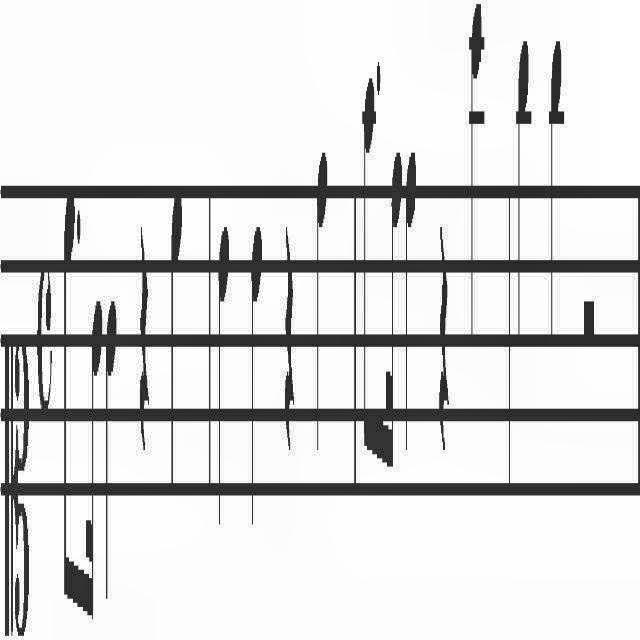Eighth-note: (360, 70, 376, 482), (64, 178, 76, 614)
Quarter-note: (467, 1, 483, 363), (515, 29, 529, 354), (104, 288, 118, 608), (169, 188, 183, 497), (550, 22, 562, 354), (316, 144, 328, 460), (404, 146, 416, 462), (250, 220, 262, 534), (218, 223, 230, 529)
Quarter-rest: (138, 212, 150, 448), (284, 220, 296, 454), (438, 220, 449, 448)
Sixteenth-note: (86, 289, 102, 617), (386, 146, 402, 474)
